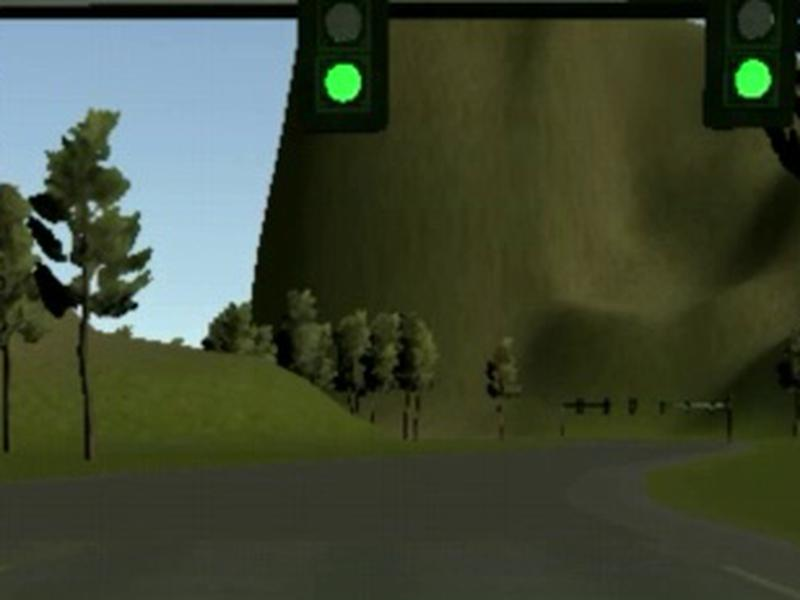Green: (703, 1, 797, 131), (298, 1, 389, 134)
